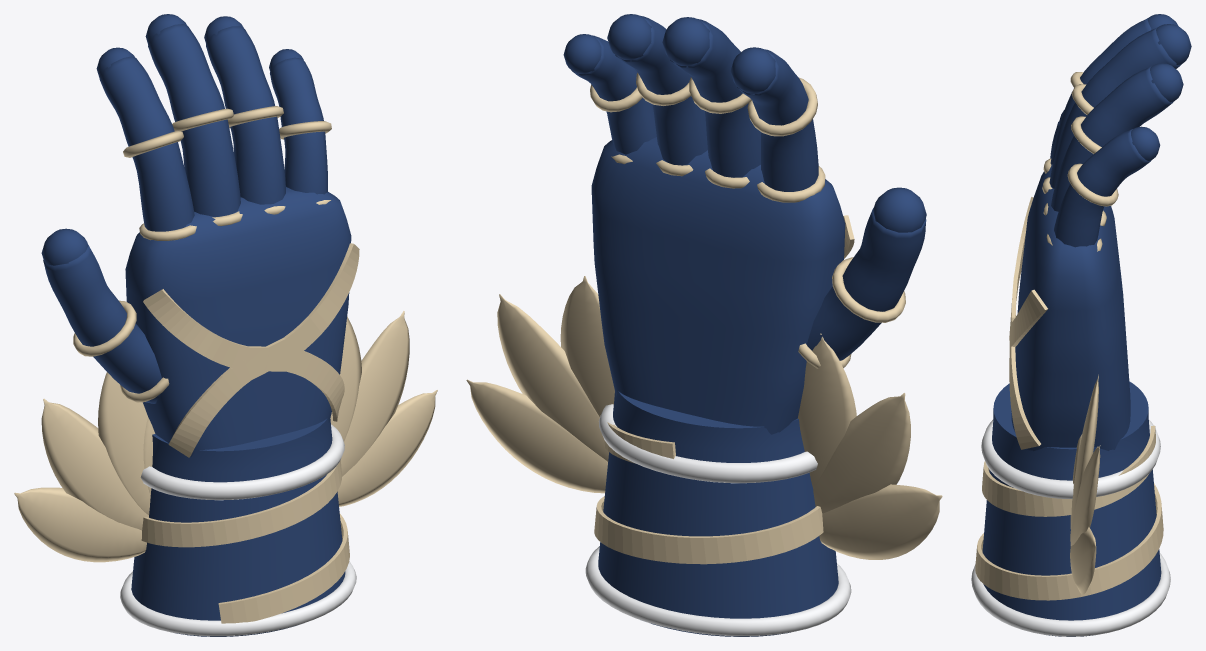
Rendered from gloves_haste_uncommon.glb.
3 views of the same model, side by side, from view 1: azimuth 30°, elevation 25°; view 2: azimuth 150°, elevation 25°; view 3: azimuth 270°, elevation 25° (orthographic). The views are drawn at different scales.
Parts seen in each view (by area): view 1: gloves_haste_uncommon; view 2: gloves_haste_uncommon; view 3: gloves_haste_uncommon.
Part boxes in pixels (x1,y1,x2,y2): gloves_haste_uncommon: [14, 14, 437, 636]; gloves_haste_uncommon: [466, 14, 942, 636]; gloves_haste_uncommon: [971, 14, 1191, 636].
Size of the model in its own units: 1.98 by 2.45 by 0.8858.
